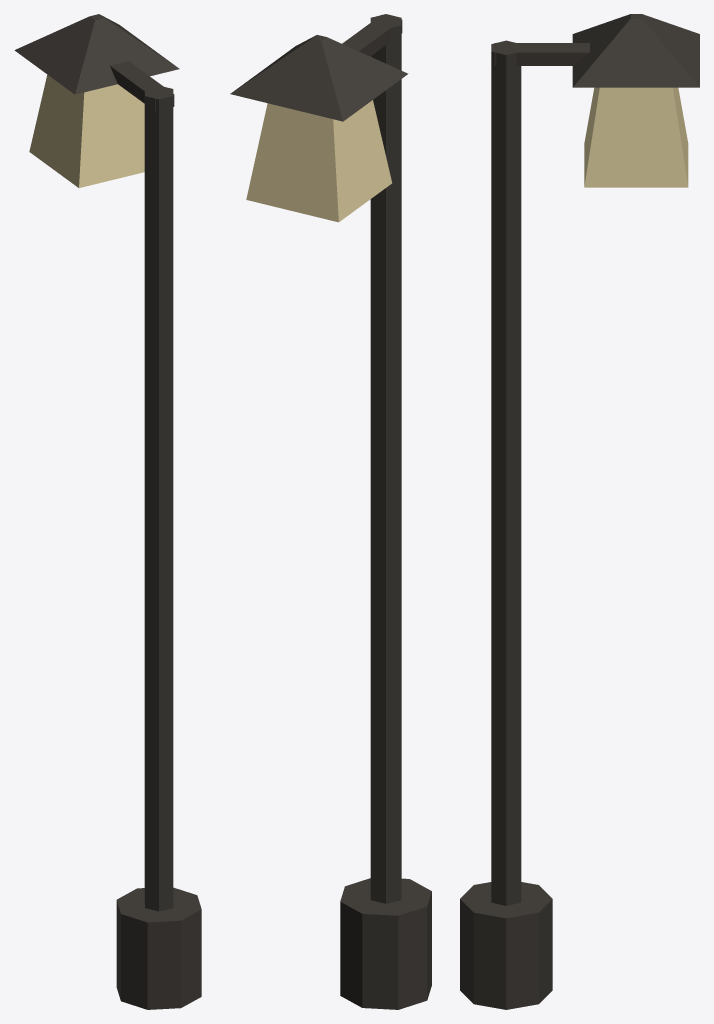
Rendered from sokak-lambasi.glb.
3 renders of one model, left to right at view 1: azimuth 30°, elevation 25°; view 2: azimuth 150°, elevation 25°; view 3: azimuth 270°, elevation 25°, orthographic. The views are drawn at different scales.
Visible parts, largest first — view 1: demir, fener; view 2: demir, fener; view 3: demir, fener.
Part boxes in pixels (<box>): demir: <box>14,14,201,1009</box>; fener: <box>29,75,144,187</box>; demir: <box>230,14,431,1009</box>; fener: <box>246,100,391,222</box>; demir: <box>460,14,699,1009</box>; fener: <box>584,87,688,187</box>.
Bounding box in the file's own units: 0.44 × 3.72 × 0.8301.
